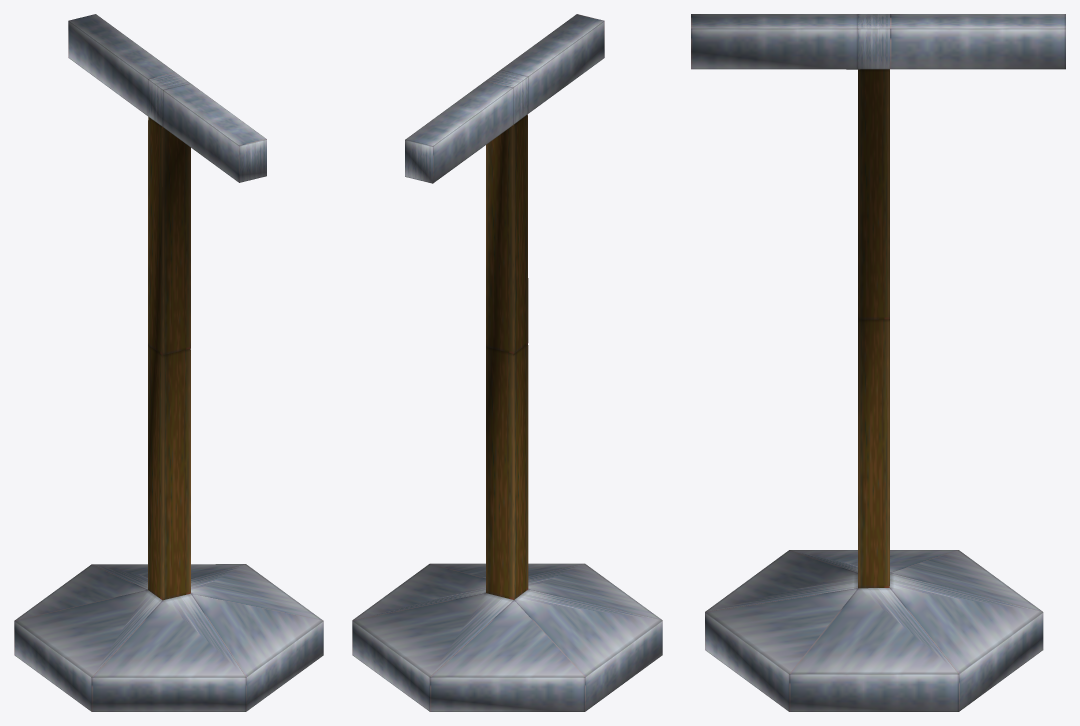
The picture shows the model from 3 angles, left to right: view 1: azimuth 30°, elevation 25°; view 2: azimuth 150°, elevation 25°; view 3: azimuth 270°, elevation 25°; orthographic projection. The views are drawn at different scales.
Visible parts, largest first — view 1: T1L6M003_6; view 2: T1L6M003_6; view 3: T1L6M003_6.
Part boxes in pixels (box(x1,y1,x2,y2)): T1L6M003_6: box(14, 14, 323, 711); T1L6M003_6: box(352, 14, 662, 711); T1L6M003_6: box(691, 14, 1065, 711).
Size of the model in its own units: 0.7871 by 1.86 by 1.01.
Materials: 1 (1 with a texture image).
